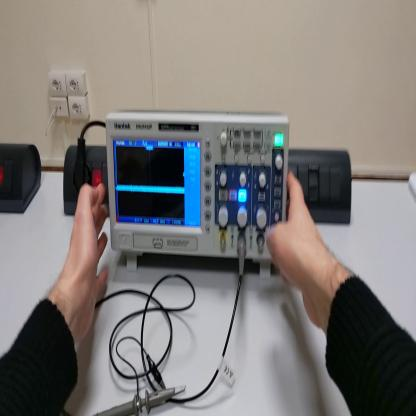hand: (266, 169, 330, 325), (60, 184, 113, 336)
oscilloscope: (107, 111, 289, 282)
oscilloscope probe tip: (95, 381, 188, 413)
socket: (64, 144, 110, 215), (2, 142, 44, 216)
